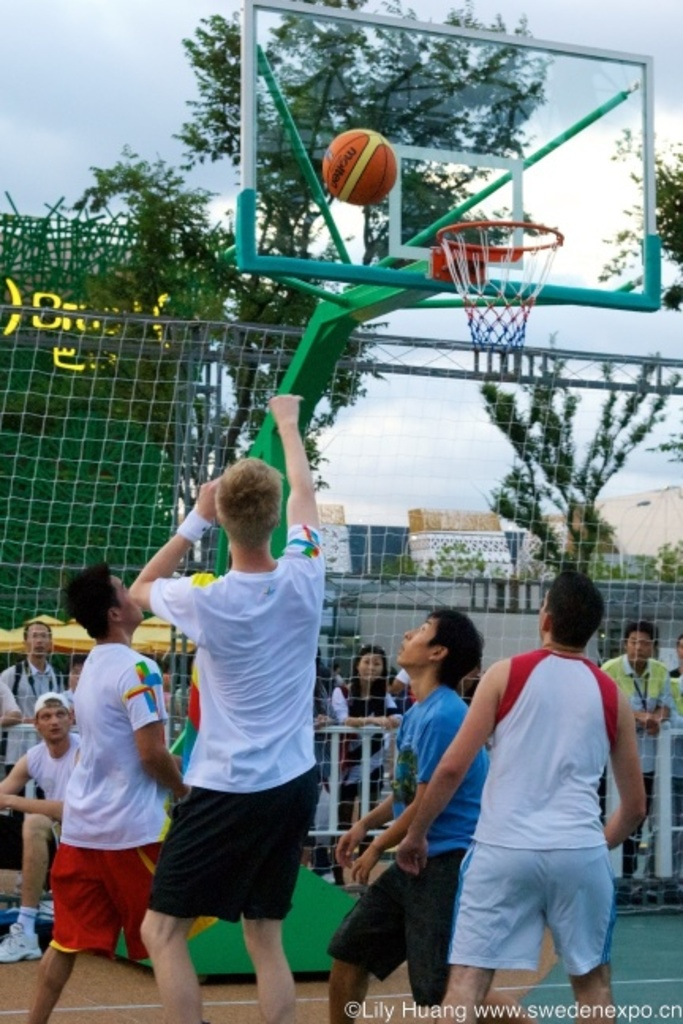Ball: (324, 130, 402, 207)
